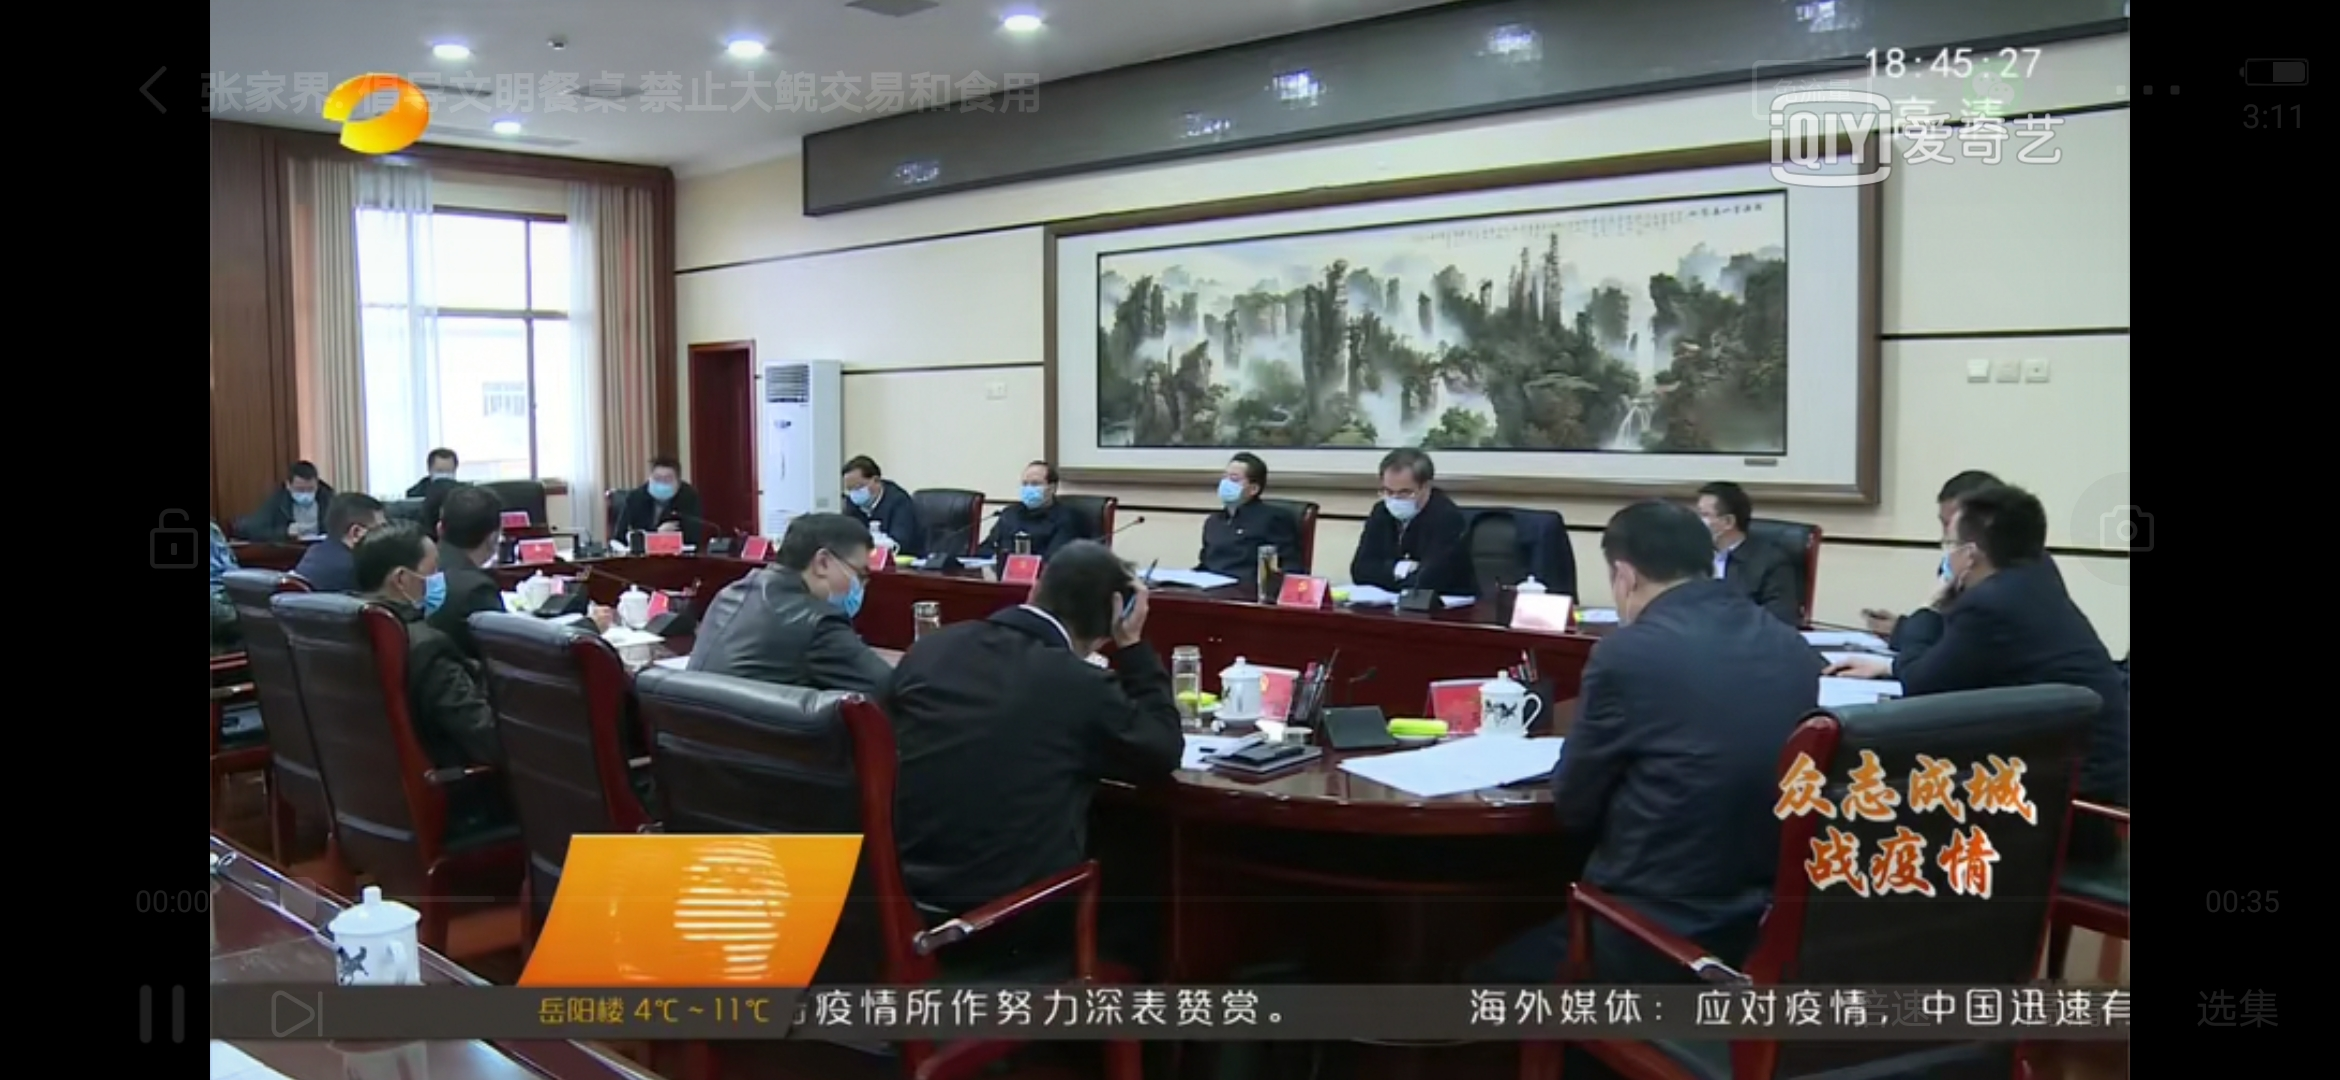correctlyWear: (388, 556, 451, 624), (812, 547, 869, 619), (1942, 527, 1986, 591), (1380, 477, 1434, 521), (1213, 468, 1260, 510), (1698, 506, 1739, 547), (845, 474, 882, 512), (646, 470, 683, 504), (1022, 477, 1055, 510), (287, 477, 318, 509), (425, 462, 457, 488)
